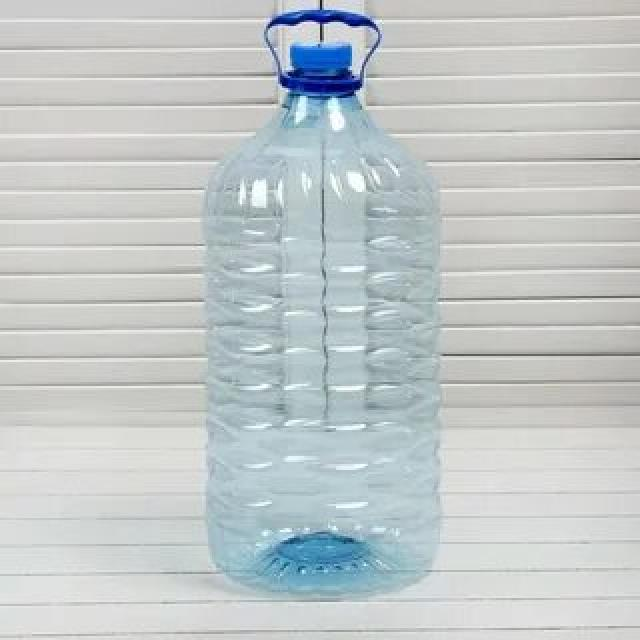blue: (208, 92, 444, 603)
